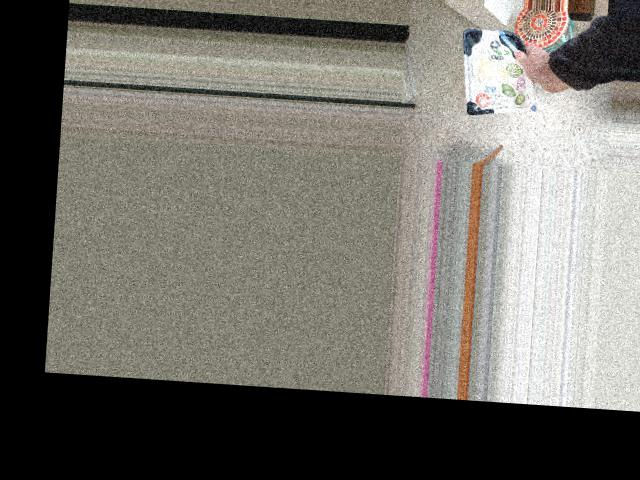cheese: (482, 41, 553, 118)
